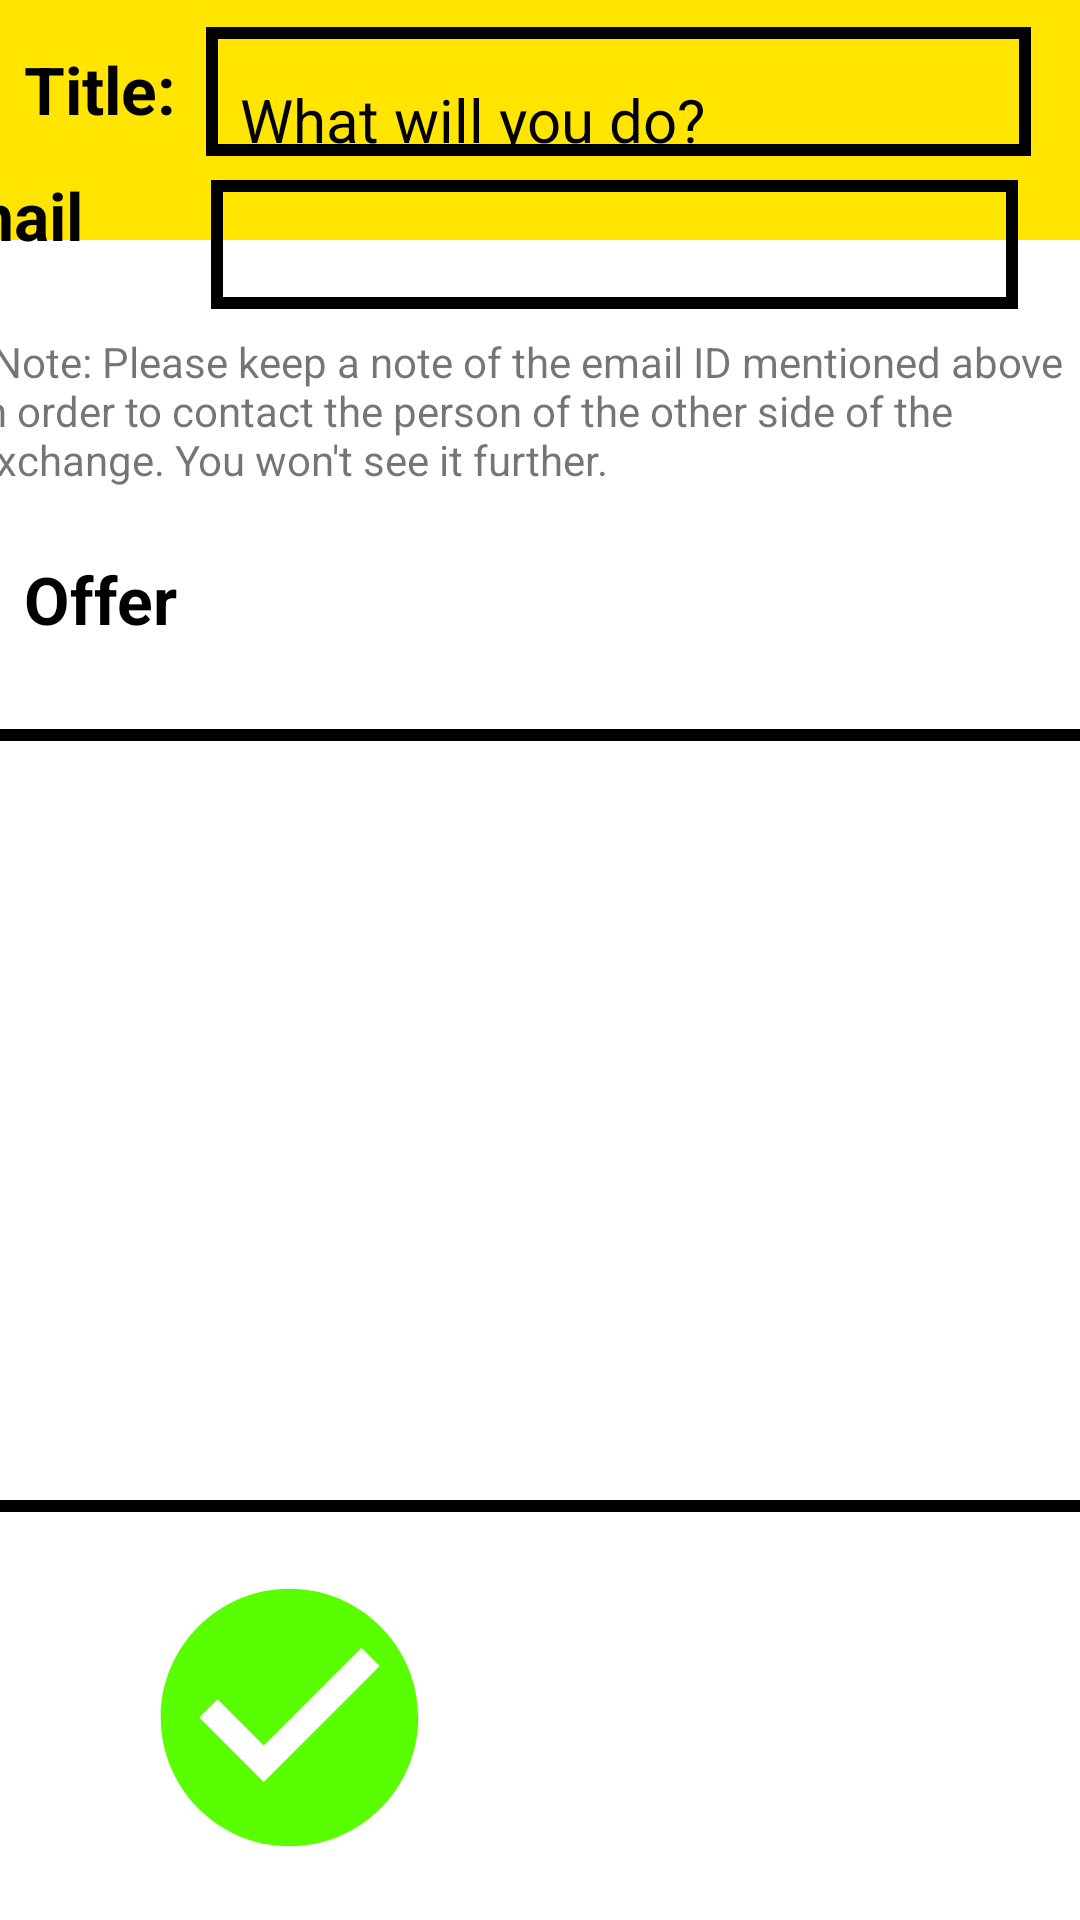

Where to tap for icons on this 1080px x 1920px app screen, as [x,y]:
check circle: [289,1717]
